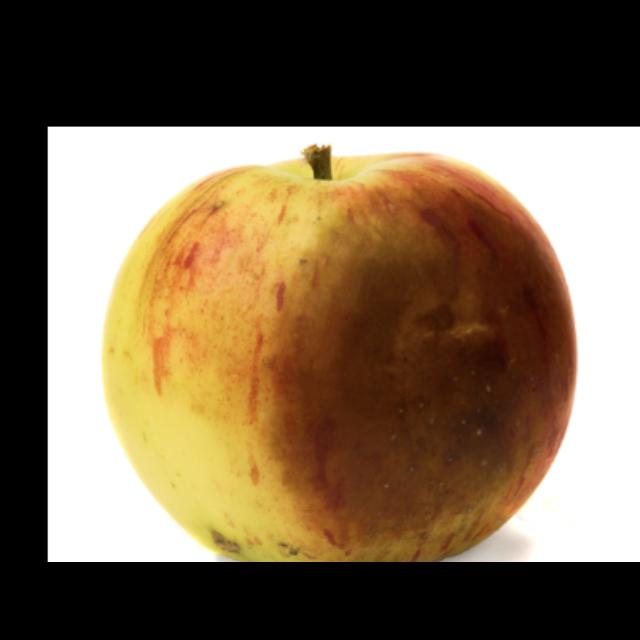Apel Tidak Segar: (105, 154, 579, 562)
